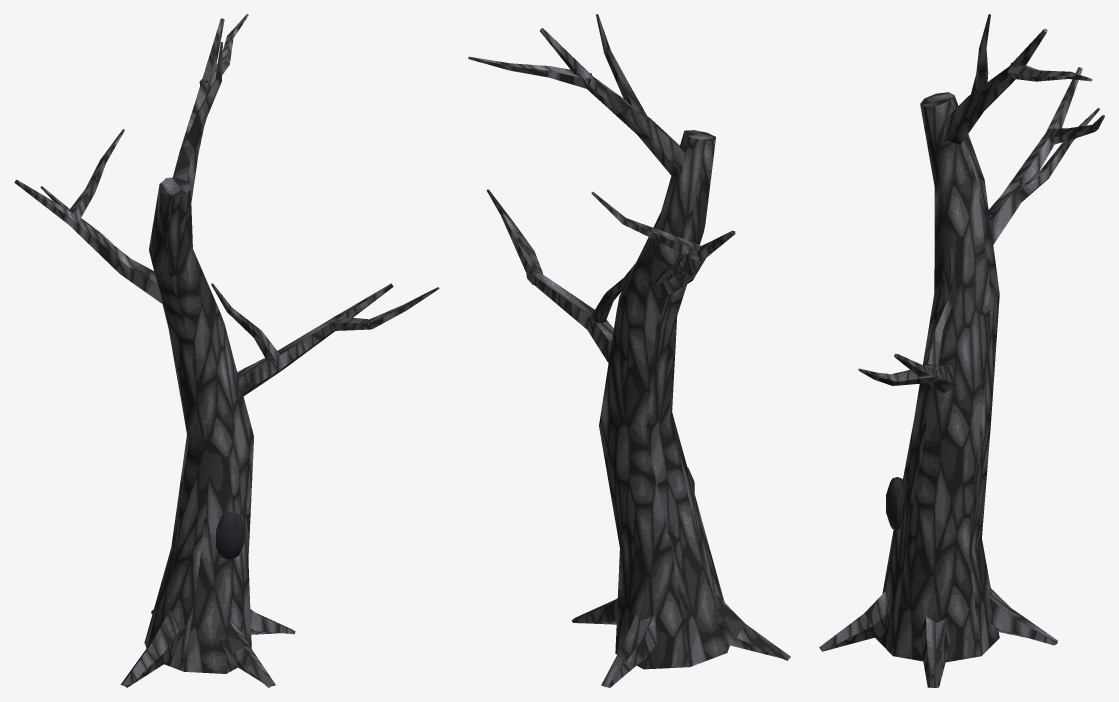
Rendered from tree_dead.glb.
3 views of the same model, side by side, from view 1: azimuth 30°, elevation 25°; view 2: azimuth 150°, elevation 25°; view 3: azimuth 270°, elevation 25° (orthographic). The views are drawn at different scales.
Parts seen in each view (by area): view 1: Tree; view 2: Tree; view 3: Tree.
Part boxes in pixels (x1,y1,x2,y2): Tree: [14, 14, 439, 687]; Tree: [468, 14, 790, 687]; Tree: [819, 14, 1104, 687].
Size of the model in its own units: 2.81 by 4.81 by 1.92.
Materials: 2 (2 with a texture image).
